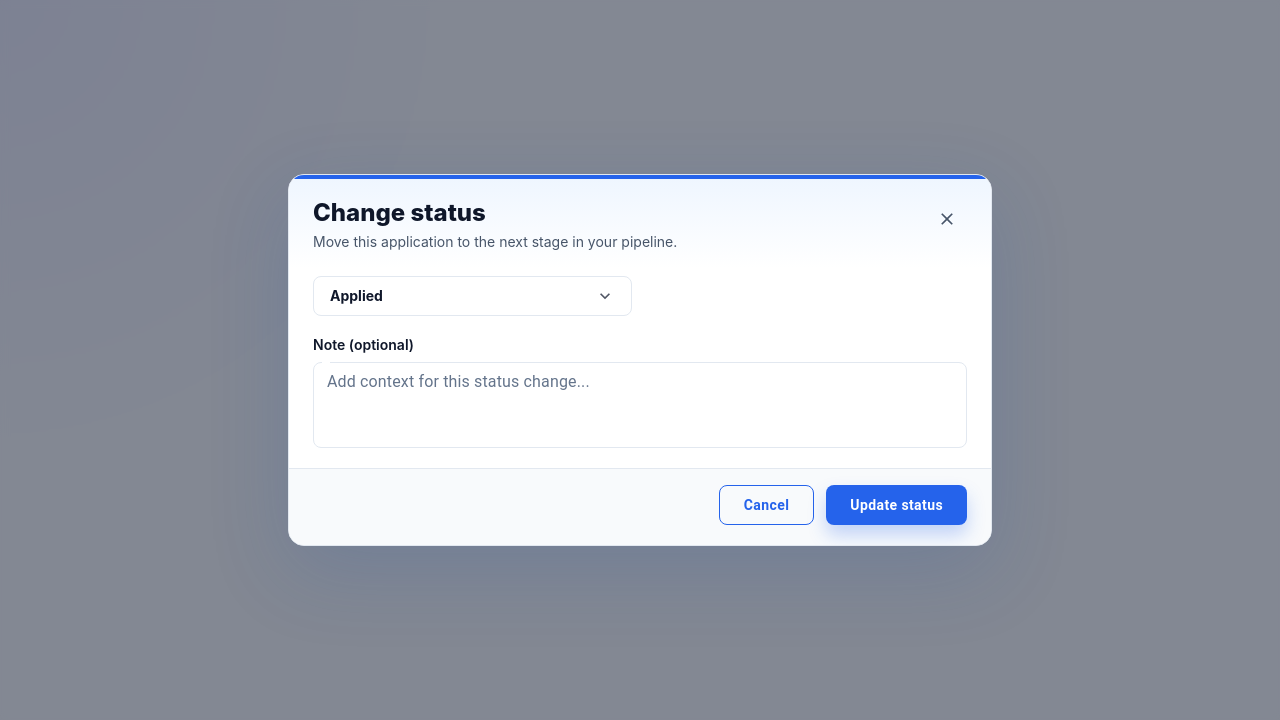
Test: StatusChangeDialog › submits a status transition with an optional note successfully
The image size is (1280, 720).
Click the button "Applied" at point(356, 296), box [313,276,632,316]
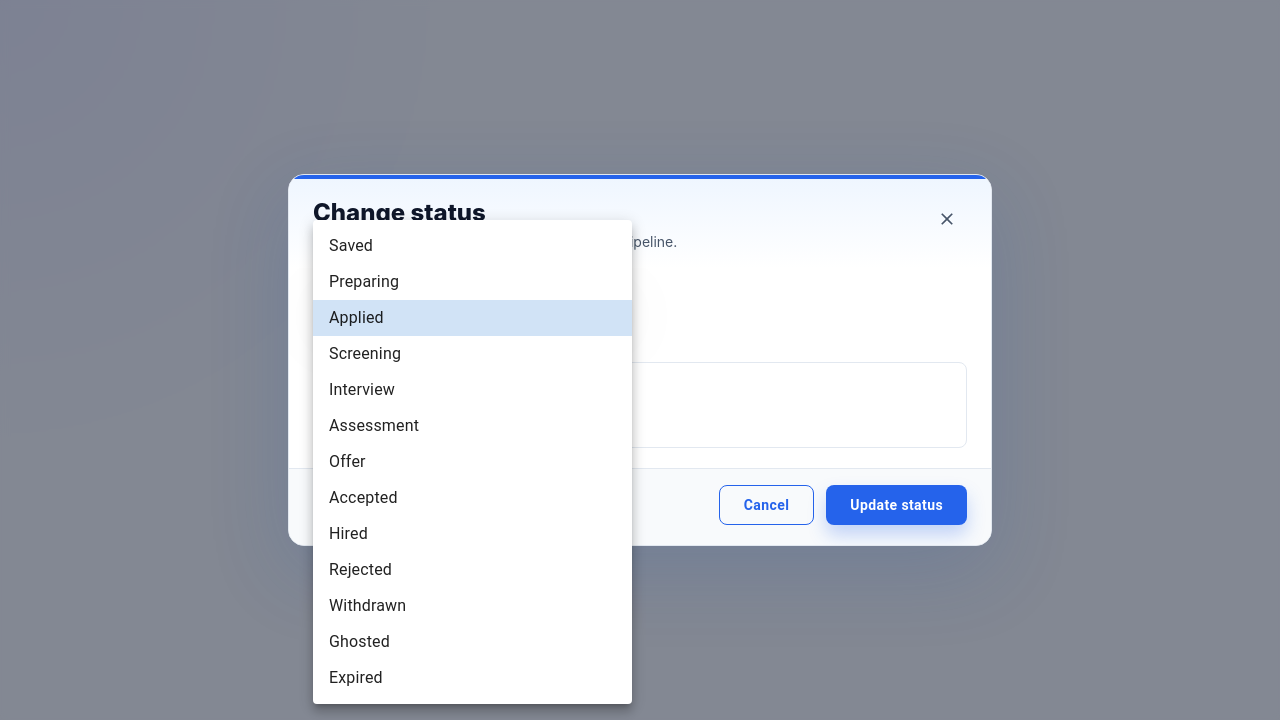
Click the menu item "Interview" at point(362, 390), box [329,380,395,399]
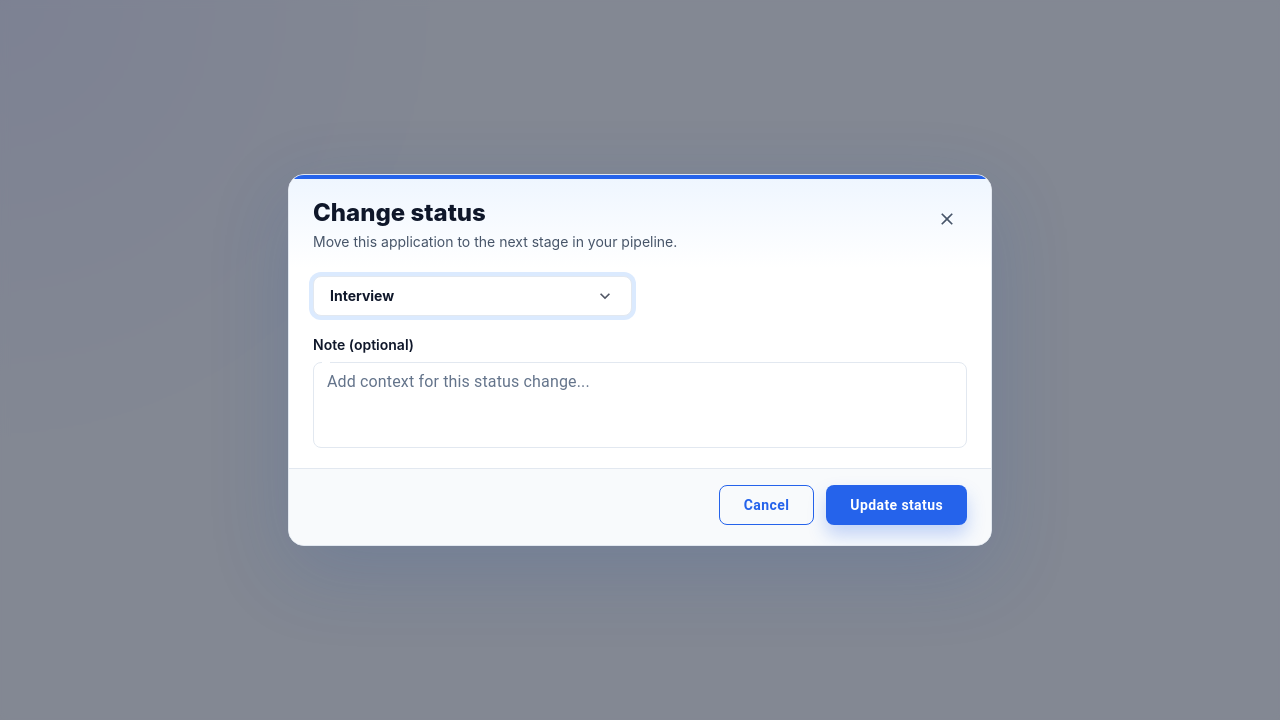
Type "Scheduled recruiter screening" into the text box with placeholder "Add context for this status change..." at point(640, 405), box [327,370,953,439]
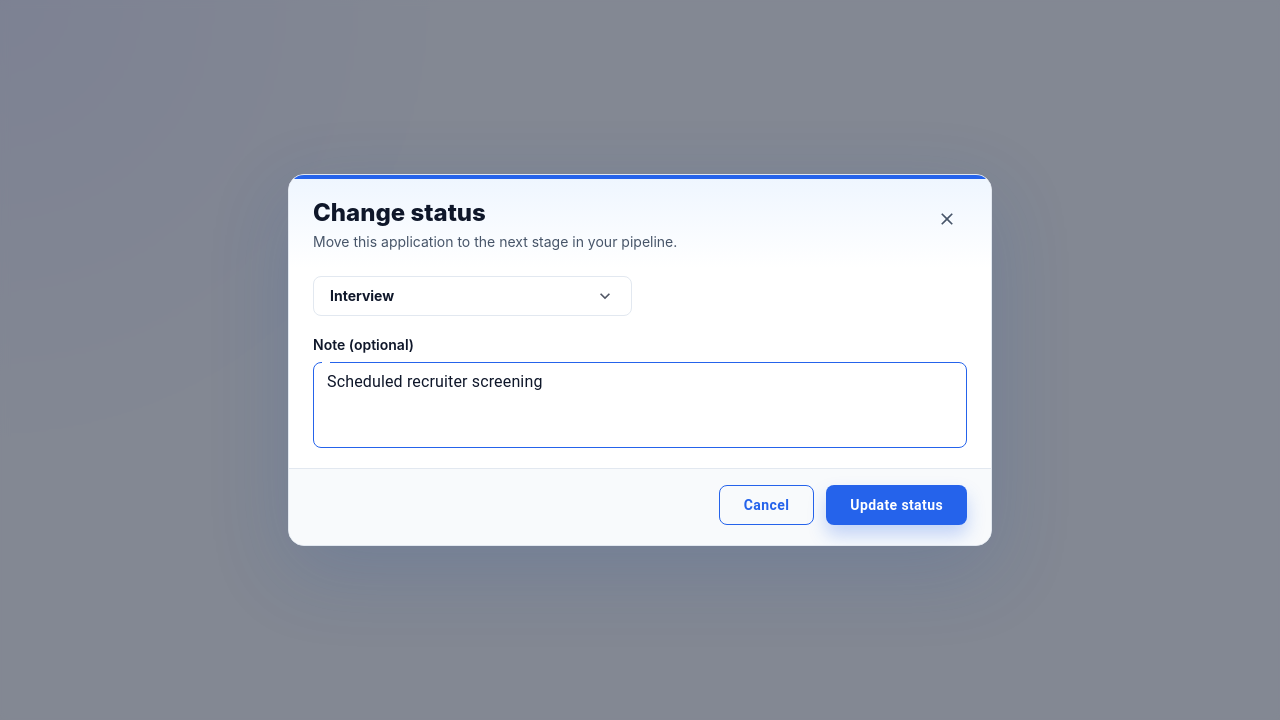
Click the button "Update status" at point(897, 505), box [826,485,967,525]
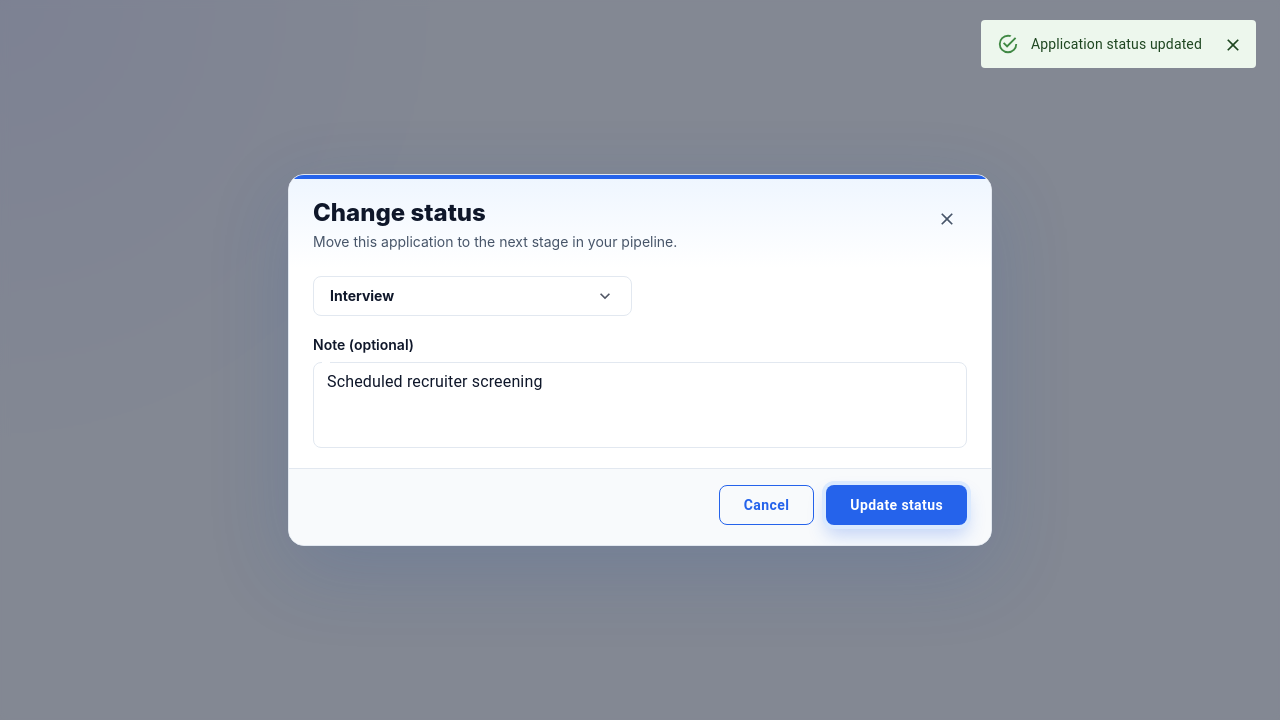
Result: the text "Application status updated" is shown at [1031,36,1202,52]
